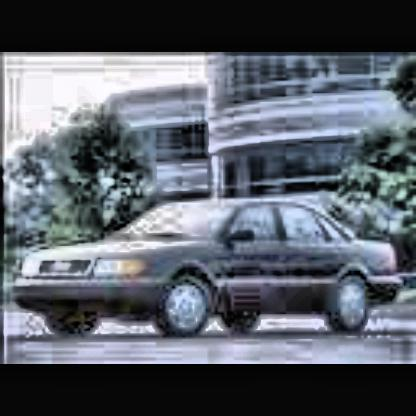Audi 100 Sedan 1994: (4, 192, 416, 348)
